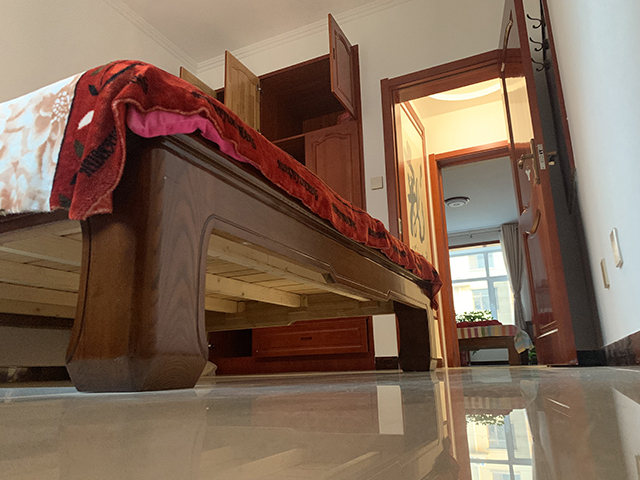bed: (1, 58, 443, 393), (456, 321, 535, 367)
cabinet: (208, 315, 376, 376)
